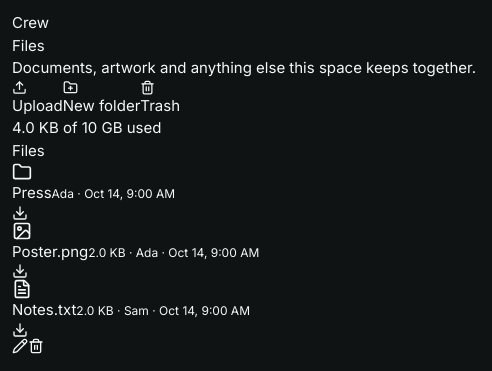
it: lists a folder, opens folders, and lets people change only what they added
Check: the text "4.0 KB of 10 GB used" is shown, box [12,118,161,137]
Check: the button named "Delete Notes.txt" is shown, box [28,338,44,354]
Click the button "Press".
click(32, 193)  # box [12,182,52,204]
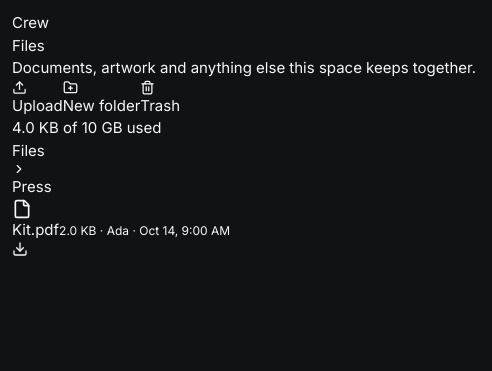
Check: the button "Kit.pdf" is shown, box [12,218,59,241]
Click the button "Files".
click(28, 151)  # box [12,140,45,162]
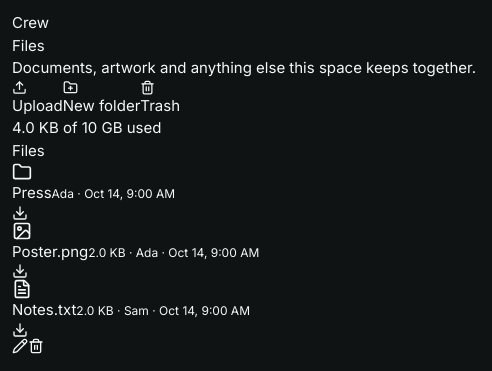
Check: the button "Poster.png" is shown, box [12,240,88,263]
